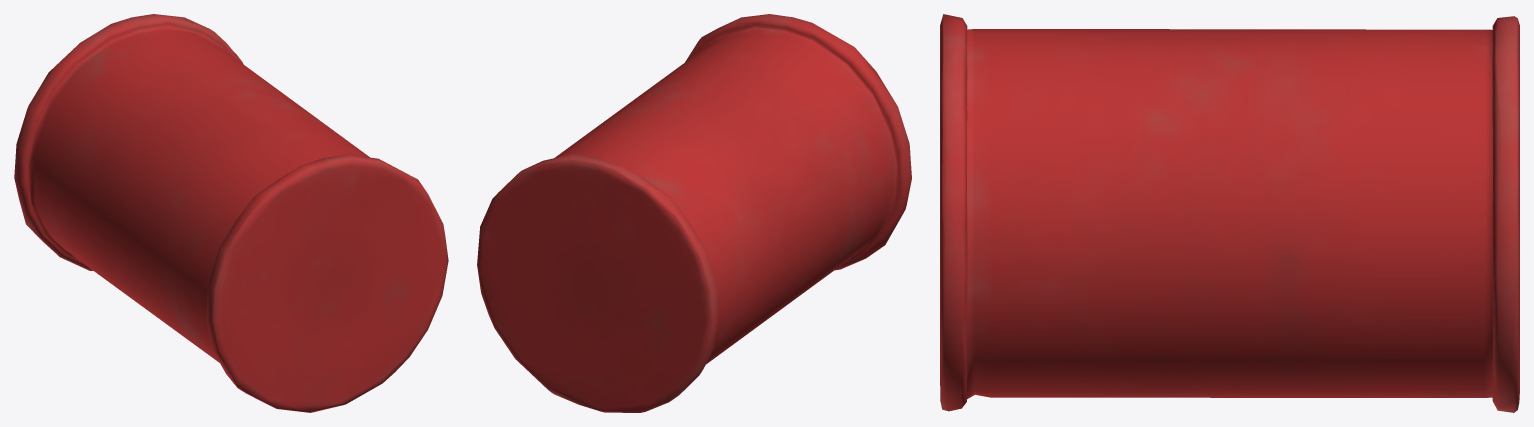
The model's file is SM_Overhead_Utilities02.fbx.
3 renders of one model, left to right at view 1: azimuth 30°, elevation 25°; view 2: azimuth 150°, elevation 25°; view 3: azimuth 270°, elevation 25°, orthographic. The views are drawn at different scales.
Parts seen in each view (by area): view 1: SM_Overhead_Utilities02_LOD0; view 2: SM_Overhead_Utilities02_LOD0; view 3: SM_Overhead_Utilities02_LOD0.
Part boxes in pixels (<box>): SM_Overhead_Utilities02_LOD0: <box>14,14,448,412</box>; SM_Overhead_Utilities02_LOD0: <box>477,14,911,412</box>; SM_Overhead_Utilities02_LOD0: <box>940,14,1519,412</box>.
Bounding box in the file's own units: 13.67 × 20.03 × 13.6.
